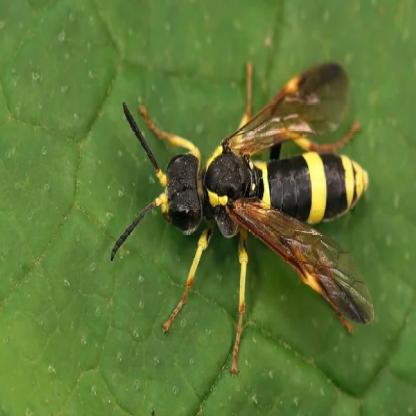sawfly: (110, 52, 378, 373)
